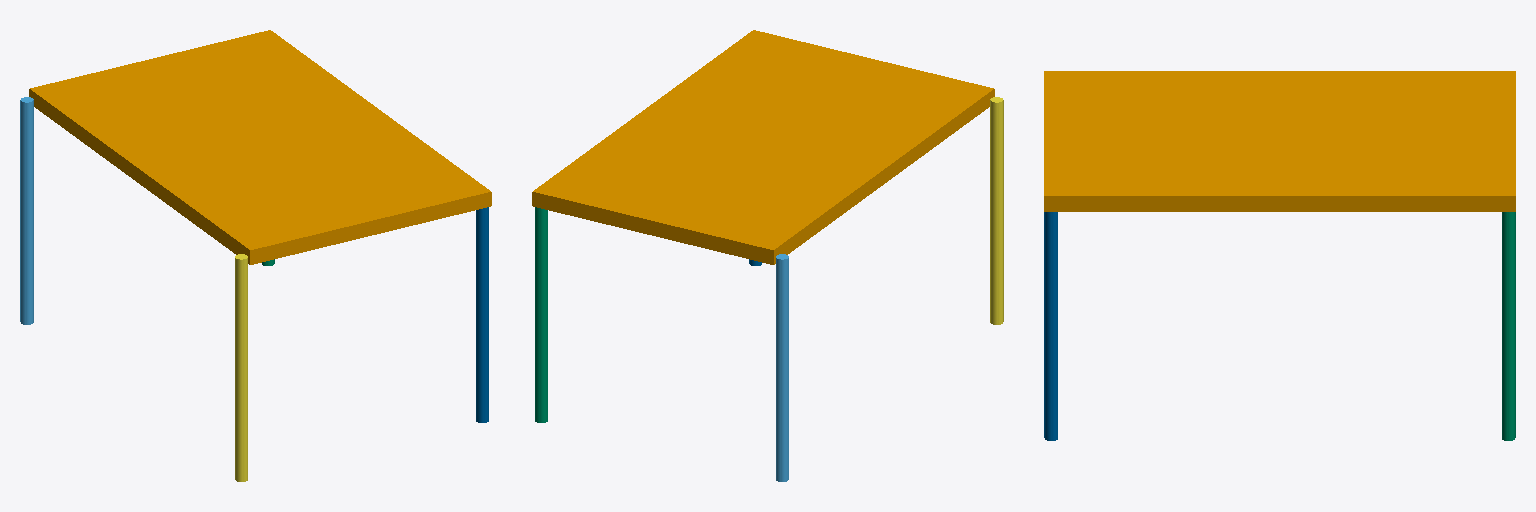
robot.urdf — table:
<?xml version="1.0" ?>
<!-- =================================================================================== -->
<!-- |    This document was autogenerated by xacro from /opt/ros/fuerte/stacks/simulator_gazebo/gazebo_worlds/objects/table.urdf.xacro | -->
<!-- |    EDITING THIS FILE BY HAND IS NOT RECOMMENDED                                 | -->
<!-- =================================================================================== -->
<!-- 1.35ly 0.85bx 0.75hz  -->
<!-- 1.35ly 0.85bx 0.75hz  -->
<!-- 1.35ly 0.85bx 0.75hz  -->
<robot name="table" xmlns:body="http://playerstage.sourceforge.net/gazebo/xmlschema/#body" xmlns:controller="http://playerstage.sourceforge.net/gazebo/xmlschema/#controller" xmlns:gazebo="http://playerstage.sourceforge.net/gazebo/xmlschema/#gz" xmlns:geom="http://playerstage.sourceforge.net/gazebo/xmlschema/#geom" xmlns:interface="http://playerstage.sourceforge.net/gazebo/xmlschema/#interface" xmlns:joint="http://playerstage.sourceforge.net/gazebo/xmlschema/#joint" xmlns:model="http://playerstage.sourceforge.net/gazebo/xmlschema/#model" xmlns:physics="http://playerstage.sourceforge.net/gazebo/xmlschema/#physics" xmlns:renderable="http://playerstage.sourceforge.net/gazebo/xmlschema/#renderable" xmlns:rendering="http://playerstage.sourceforge.net/gazebo/xmlschema/#rendering" xmlns:sensor="http://playerstage.sourceforge.net/gazebo/xmlschema/#sensor" xmlns:xi="http://www.w3.org/2001/XInclude">
  <!-- tabletop height is .55+.01+.025=.585 -->
  <link name="table_top_link">
    <inertial>
      <mass value="1.0"/>
      <origin xyz="1.0 0.0 0.750"/>
      <inertia ixx="1" ixy="0" ixz="0" iyy="1" iyz="0" izz="1"/>
    </inertial>
    <visual>
      <origin xyz="1.0 0.0 0.750"/>
      <geometry>
        <box size="0.85 1.35 0.05"/>
      </geometry>
    </visual>
    <collision>
      <origin xyz="1.0 0.0 0.750"/>
      <geometry>
        <box size="0.85 1.35 0.05"/>
      </geometry>
    </collision>
  </link>
  <gazebo reference="table_top_link">
    <material>Gazebo/Wood</material>
    <mu1>50.0</mu1>
    <mu2>50.0</mu2>
    <kp>1000000.0</kp>
    <kd>1.0</kd>
  </gazebo>
  <joint name="leg1_joint" type="fixed">
    <parent link="table_top_link"/>
    <origin rpy="0 0 0" xyz="0.555 0.655 0.75"/>
    <child link="leg1_link"/>
  </joint>
  <link name="leg1_link">
    <inertial>
      <mass value="1.0"/>
      <origin xyz="0 0 -0.375"/>
      <inertia ixx="0.1" ixy="0" ixz="0" iyy="0.1" iyz="0" izz="0.01"/>
    </inertial>
    <visual>
      <origin rpy="0 0 0" xyz="0.0 0.0 -0.375"/>
      <geometry>
        <cylinder length="0.75" radius="0.02"/>
      </geometry>
    </visual>
    <collision>
      <origin rpy="0.0 0.0 0.0" xyz="0.0 0.0 -0.375"/>
      <geometry>
        <cylinder length="0.75" radius="0.02"/>
      </geometry>
    </collision>
  </link>
  <gazebo reference="leg1_link">
    <material>Gazebo/Red</material>
    <mu1>1000.0</mu1>
    <mu2>1000.0</mu2>
    <kp>10000000.0</kp>
    <kd>1.0</kd>
    <selfCollide>true</selfCollide>
  </gazebo>
  <joint name="leg2_joint" type="fixed">
    <parent link="table_top_link"/>
    <origin rpy="0 0 0" xyz="1.405 0.655 0.75"/>
    <child link="leg2_link"/>
  </joint>
  <link name="leg2_link">
    <inertial>
      <mass value="1.0"/>
      <origin xyz="0 0 -0.375"/>
      <inertia ixx="0.1" ixy="0" ixz="0" iyy="0.1" iyz="0" izz="0.01"/>
    </inertial>
    <visual>
      <origin rpy="0 0 0" xyz="0.0 0.0 -0.375"/>
      <geometry>
        <cylinder length="0.75" radius="0.02"/>
      </geometry>
    </visual>
    <collision>
      <origin rpy="0.0 0.0 0.0" xyz="0.0 0.0 -0.375"/>
      <geometry>
        <cylinder length="0.75" radius="0.02"/>
      </geometry>
    </collision>
  </link>
  <gazebo reference="leg2_link">
    <material>Gazebo/Red</material>
    <mu1>1000.0</mu1>
    <mu2>1000.0</mu2>
    <kp>10000000.0</kp>
    <kd>1.0</kd>
    <selfCollide>true</selfCollide>
  </gazebo>
  <joint name="leg3_joint" type="fixed">
    <parent link="table_top_link"/>
    <origin rpy="0 0 0" xyz="0.555 -0.655 0.75"/>
    <child link="leg3_link"/>
  </joint>
  <link name="leg3_link">
    <inertial>
      <mass value="1.0"/>
      <origin xyz="0 0 -0.375"/>
      <inertia ixx="0.1" ixy="0" ixz="0" iyy="0.1" iyz="0" izz="0.01"/>
    </inertial>
    <visual>
      <origin rpy="0 0 0" xyz="0.0 0.0 -0.375"/>
      <geometry>
        <cylinder length="0.75" radius="0.02"/>
      </geometry>
    </visual>
    <collision>
      <origin rpy="0.0 0.0 0.0" xyz="0.0 0.0 -0.375"/>
      <geometry>
        <cylinder length="0.75" radius="0.02"/>
      </geometry>
    </collision>
  </link>
  <gazebo reference="leg3_link">
    <material>Gazebo/Red</material>
    <mu1>1000.0</mu1>
    <mu2>1000.0</mu2>
    <kp>10000000.0</kp>
    <kd>1.0</kd>
    <selfCollide>true</selfCollide>
  </gazebo>
  <joint name="leg4_joint" type="fixed">
    <parent link="table_top_link"/>
    <origin rpy="0 0 0" xyz="1.405 -0.655 0.75"/>
    <child link="leg4_link"/>
  </joint>
  <link name="leg4_link">
    <inertial>
      <mass value="1.0"/>
      <origin xyz="0 0 -0.375"/>
      <inertia ixx="0.1" ixy="0" ixz="0" iyy="0.1" iyz="0" izz="0.01"/>
    </inertial>
    <visual>
      <origin rpy="0 0 0" xyz="0.0 0.0 -0.375"/>
      <geometry>
        <cylinder length="0.75" radius="0.02"/>
      </geometry>
    </visual>
    <collision>
      <origin rpy="0.0 0.0 0.0" xyz="0.0 0.0 -0.375"/>
      <geometry>
        <cylinder length="0.75" radius="0.02"/>
      </geometry>
    </collision>
  </link>
  <gazebo reference="leg4_link">
    <material>Gazebo/Red</material>
    <mu1>1000.0</mu1>
    <mu2>1000.0</mu2>
    <kp>10000000.0</kp>
    <kd>1.0</kd>
    <selfCollide>true</selfCollide>
  </gazebo>
  <gazebo>
    <static>true</static>
    <canonicalBody>table_top_link</canonicalBody>
  </gazebo>
</robot>

--- What the picture shows (computed from the rendered views, not written in the file) ---
The picture shows the robot from 3 angles, left to right: view 1: azimuth 30°, elevation 25°; view 2: azimuth 150°, elevation 25°; view 3: azimuth 270°, elevation 25°; orthographic projection.
Model table with 5 links and 4 joints (4 fixed), rooted at table_top_link, posed all joints at 0.
Visible links, largest first — view 1: table_top_link, leg1_link, leg3_link, leg4_link; view 2: table_top_link, leg3_link, leg1_link, leg2_link; view 3: table_top_link, leg2_link, leg4_link.
Boxes of the visible links, x1=… form: table_top_link: x1=29, y1=30, x2=491, y2=264; leg1_link: x1=20, y1=97, x2=33, y2=324; leg3_link: x1=235, y1=254, x2=247, y2=481; leg4_link: x1=476, y1=207, x2=488, y2=422; table_top_link: x1=532, y1=30, x2=994, y2=264; leg3_link: x1=990, y1=97, x2=1003, y2=324; leg1_link: x1=776, y1=254, x2=788, y2=481; leg2_link: x1=535, y1=207, x2=547, y2=422; table_top_link: x1=1044, y1=71, x2=1515, y2=211; leg2_link: x1=1502, y1=212, x2=1515, y2=440; leg4_link: x1=1044, y1=212, x2=1057, y2=440.
Bounding box of the posed robot: 0.89 × 1.35 × 0.775 m (x, y, z).
Geometry: primitives only (box / cylinder / sphere), no mesh files.